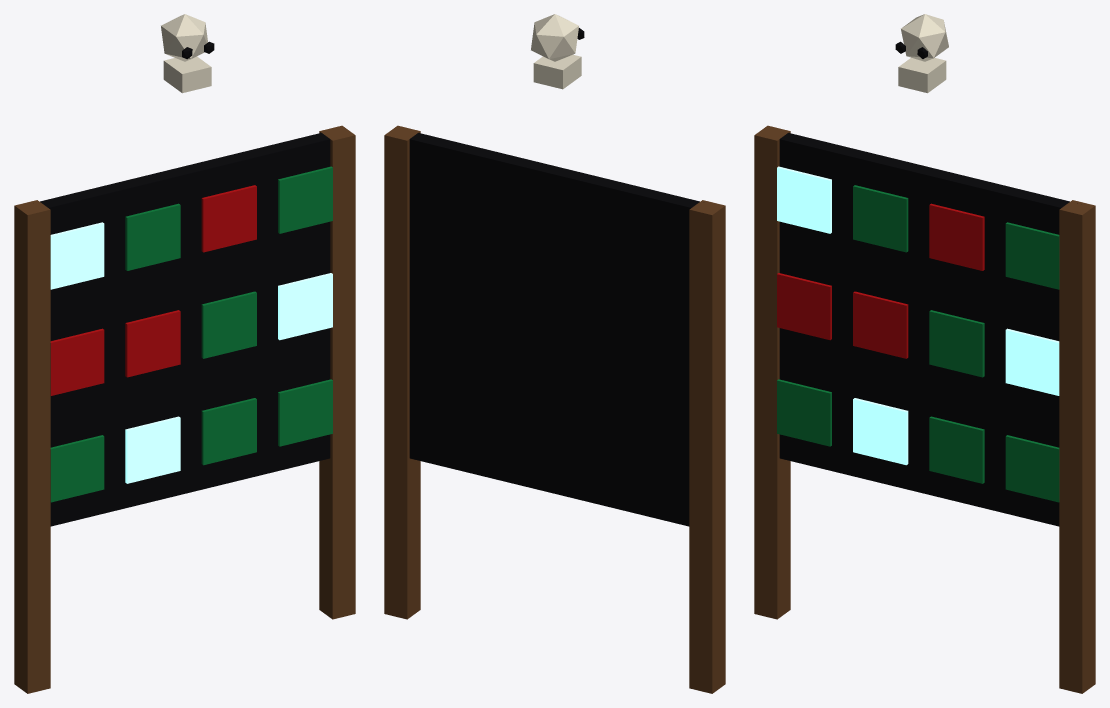
The model's file is Prop_OR_OddsBoard_16.glb.
3 views of the same model, side by side, from view 1: azimuth 30°, elevation 25°; view 2: azimuth 150°, elevation 25°; view 3: azimuth 330°, elevation 25° (orthographic).
Visible parts, largest first — view 1: Prop_OR_OddsBoard_16; view 2: Prop_OR_OddsBoard_16; view 3: Prop_OR_OddsBoard_16.
Boxes of the visible parts, x1,y1,x2,y2 form: Prop_OR_OddsBoard_16: (14, 14, 355, 693); Prop_OR_OddsBoard_16: (384, 14, 725, 693); Prop_OR_OddsBoard_16: (754, 14, 1095, 693).
Size of the model in its own units: 2.15 by 3.98 by 0.3057.
